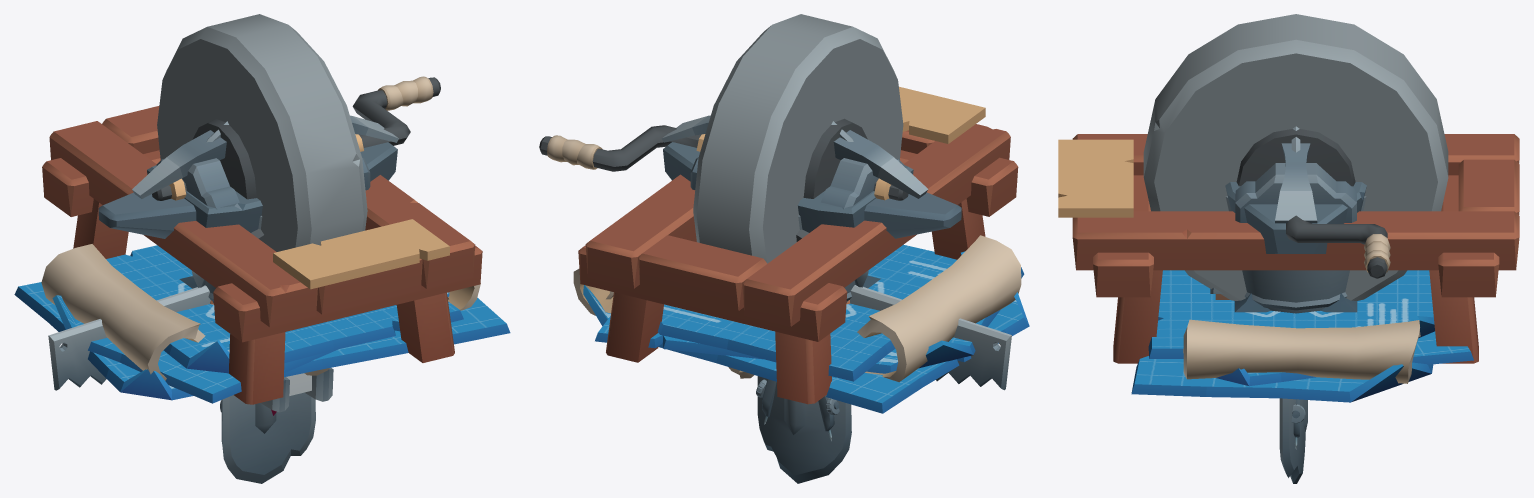
File: tools.glb
The picture shows the model from 3 angles, left to right: view 1: azimuth 30°, elevation 25°; view 2: azimuth 150°, elevation 25°; view 3: azimuth 270°, elevation 25°; orthographic projection.
Parts seen in each view (by area): view 1: grindstone, grindstone_wheel, blueprint_stacked, map, shovel, anvil, saw, pickaxe, journal_closed; view 2: grindstone, grindstone_wheel, blueprint_stacked, map, anvil, shovel, saw, pickaxe, drafting_compass_legRight, drafting_compass_legLeft; view 3: grindstone_wheel, grindstone, blueprint_stacked, map, bucket_metal, anvil, pickaxe, shovel.
Boxes of the visible parts, x1,y1,x2,y2 form: grindstone: (42, 106, 482, 404); grindstone_wheel: (152, 14, 440, 251); blueprint_stacked: (14, 245, 510, 403); map: (41, 244, 480, 380); shovel: (221, 392, 315, 483); anvil: (98, 142, 397, 288); saw: (48, 285, 213, 390); pickaxe: (132, 115, 398, 198); journal_closed: (261, 368, 333, 415); grindstone: (578, 86, 1018, 404); grindstone_wheel: (539, 14, 908, 263); blueprint_stacked: (583, 244, 1029, 413); map: (573, 235, 1021, 382); anvil: (663, 142, 961, 288); shovel: (757, 376, 851, 483); saw: (846, 285, 1011, 390); pickaxe: (662, 115, 928, 198); drafting_compass_legRight: (818, 395, 839, 440); drafting_compass_legLeft: (756, 379, 776, 424); grindstone_wheel: (1143, 14, 1448, 300); grindstone: (1058, 134, 1519, 363); blueprint_stacked: (1131, 270, 1473, 402); map: (1183, 319, 1420, 383); bucket_metal: (1226, 196, 1366, 313); anvil: (1225, 182, 1366, 312); pickaxe: (1275, 143, 1317, 223); shovel: (1279, 398, 1307, 483).
Size of the model in its own units: 2.46 by 2.48 by 2.27.
4 materials, 3 textured.
